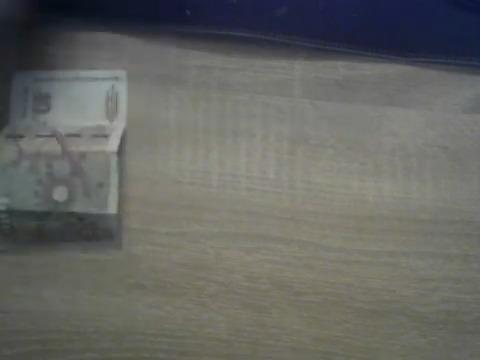10leva: (0, 70, 128, 249)
